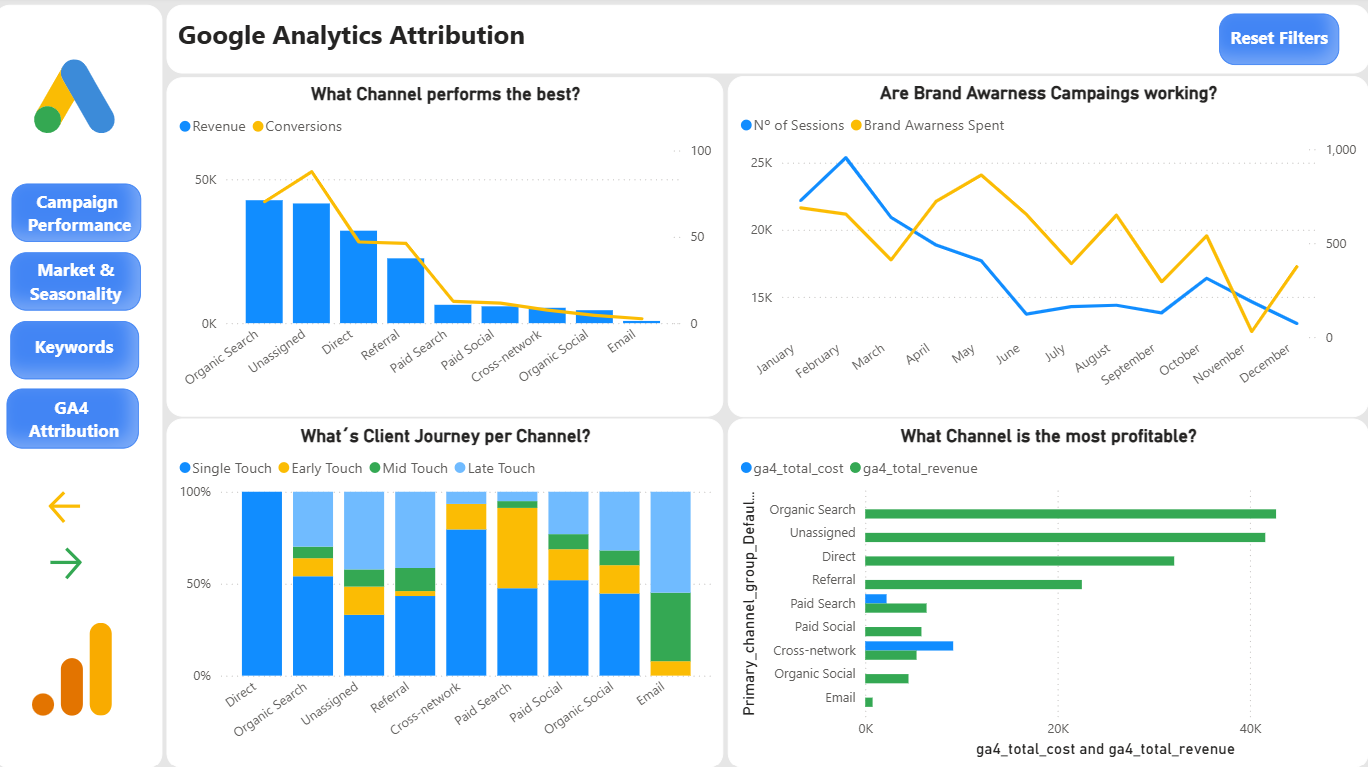

What the dashboard file says about the page in this screenshot:
{"tool":"powerbi","page":{"name":"GA4 Attribution","canvas":[1280,720],"ordinal":4},"visuals":[{"type":"clusteredBarChart","title":"What Channel is the most profitable?","fields":{"Category":["Conversion_attribution_analysis.Primary_channel_group_Default_channel_group"],"Y":["_Measures.ga4_total_cost","_Measures.ga4_total_revenue"]},"box":[683.3,395.6,596.7,323.3],"z":0},{"type":"hundredPercentStackedColumnChart","title":"What´s Client Journey per Channel?","fields":{"Y":["Sum(Conversion_attribution_analysis.Single_touch_point_credit_by_int_time)","Sum(Conversion_attribution_analysis.Early_touch_point_credit_by_int_time)","Sum(Conversion_attribution_analysis.Mid_touch_point_credit_by_int_time)","Sum(Conversion_attribution_analysis.Late_touch_point_credit_by_int_time)"],"Category":["Conversion_attribution_analysis.Primary_channel_group_Default_channel_group"]},"box":[160.5,393,518.6,326.7],"z":1000},{"type":"lineClusteredColumnComboChart","title":"What Channel performs the best?","fields":{"Category":["Conversion_attribution_analysis.Primary_channel_group_Default_channel_group"],"Y":["Sum(Conversion_attribution_analysis.Total_revenue_by_int_time)"],"Y2":["Sum(Conversion_attribution_analysis.All_conversions)"]},"box":[160.5,75.6,518.6,316.3],"z":2000},{"type":"lineChart","title":"Are Brand Awarness Campaings working?","fields":{"Y":["Sum(Month final.Engaged_sessions)"],"Y2":["_Measures.brand_awareness_spend"],"Category":["Month final.Month_name"]},"box":[684.1,76.8,595.7,317.4],"z":3000},{"type":"textbox","box":[0,8.1,157,711.6],"z":4000},{"type":"textbox","box":[160.5,8.1,1119.8,64],"z":5000},{"type":"textbox","box":[1140.7,16.3,111.6,47.7],"z":6000},{"type":"textbox","box":[1146.5,22.1,112.8,43],"z":7000},{"type":"image","box":[37.2,0,75.6,187.2],"z":8000},{"type":"textbox","box":[11.6,365.1,123.3,55.8],"z":9000},{"type":"textbox","box":[1.2,366.3,146.5,55.8],"z":10000},{"type":"textbox","box":[15.1,302.3,119.8,54.7],"z":11000},{"type":"textbox","box":[22.1,309.3,104.7,41.9],"z":12000},{"type":"textbox","box":[14.9,238.2,121.8,54.1],"z":13000},{"type":"textbox","box":[18.9,238.2,115,67.7],"z":14000},{"type":"textbox","box":[16.3,174.4,120.9,54.7],"z":15000},{"type":"textbox","box":[18.6,174.4,122.1,79.1],"z":16000},{"type":"image","box":[34.9,566.3,75.6,119.8],"z":17000},{"type":"actionButton","box":[46.5,455.8,100,39.5],"z":18000},{"type":"actionButton","box":[46.5,508.1,100,39.5],"z":19000},{"type":"advancedSlicerVisual","fields":{"Values":["campaigns_clean.Year"]},"box":[705.8,11.6,430.4,55.1],"z":20000}]}

Visuals, with their boxes in screenshot pixels (x1, y1, x2, y2), scaled from the page's 1280x720 canvas onto the 1368x767 screenshot:
"What Channel is the most profitable?" clusteredBarChart: (730,421,1367,766)
"What´s Client Journey per Channel?" hundredPercentStackedColumnChart: (172,419,726,766)
"What Channel performs the best?" lineClusteredColumnComboChart: (172,81,726,417)
"Are Brand Awarness Campaings working?" lineChart: (731,82,1367,420)
textbox: (0,9,168,766)
textbox: (172,9,1367,77)
textbox: (1219,17,1338,68)
textbox: (1225,24,1346,69)
image: (40,0,121,199)
textbox: (12,389,144,448)
textbox: (1,390,158,450)
textbox: (16,322,144,380)
textbox: (24,329,136,374)
textbox: (16,254,146,311)
textbox: (20,254,143,326)
textbox: (17,186,147,244)
textbox: (20,186,150,270)
image: (37,603,118,731)
actionButton: (50,486,157,528)
actionButton: (50,541,157,583)
advancedSlicerVisual - campaigns_clean.Year: (754,12,1214,71)
